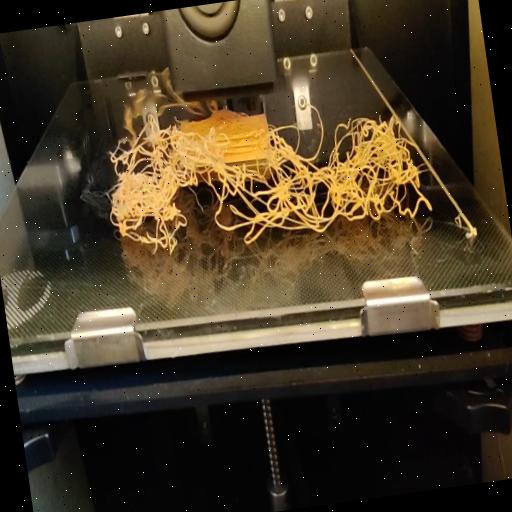spaghetti: (94, 84, 434, 266)
